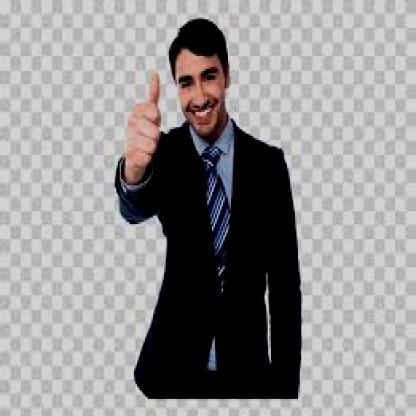Thumbs up: (114, 53, 157, 198)
